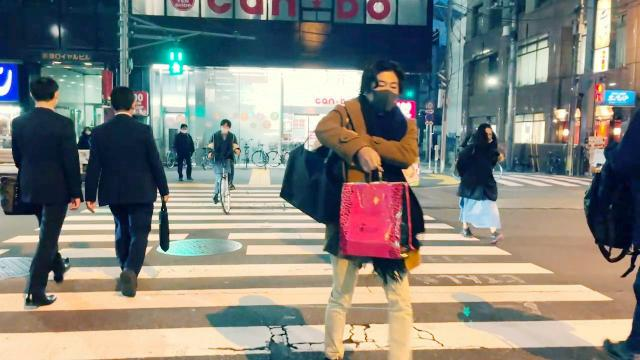berjalan: (298, 58, 419, 360), (85, 88, 173, 300), (10, 74, 84, 308), (457, 118, 508, 240)
